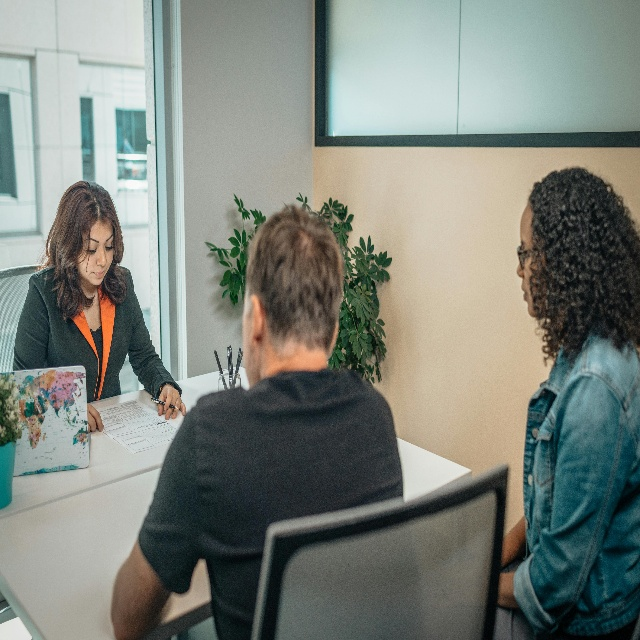Sin_guantes: (157, 385, 186, 421), (86, 402, 104, 433)
